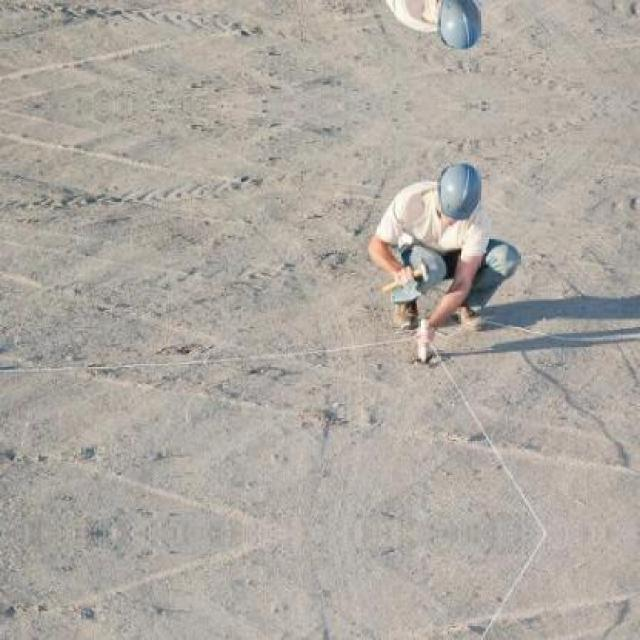helmet: (428, 163, 482, 224), (428, 0, 483, 51)
